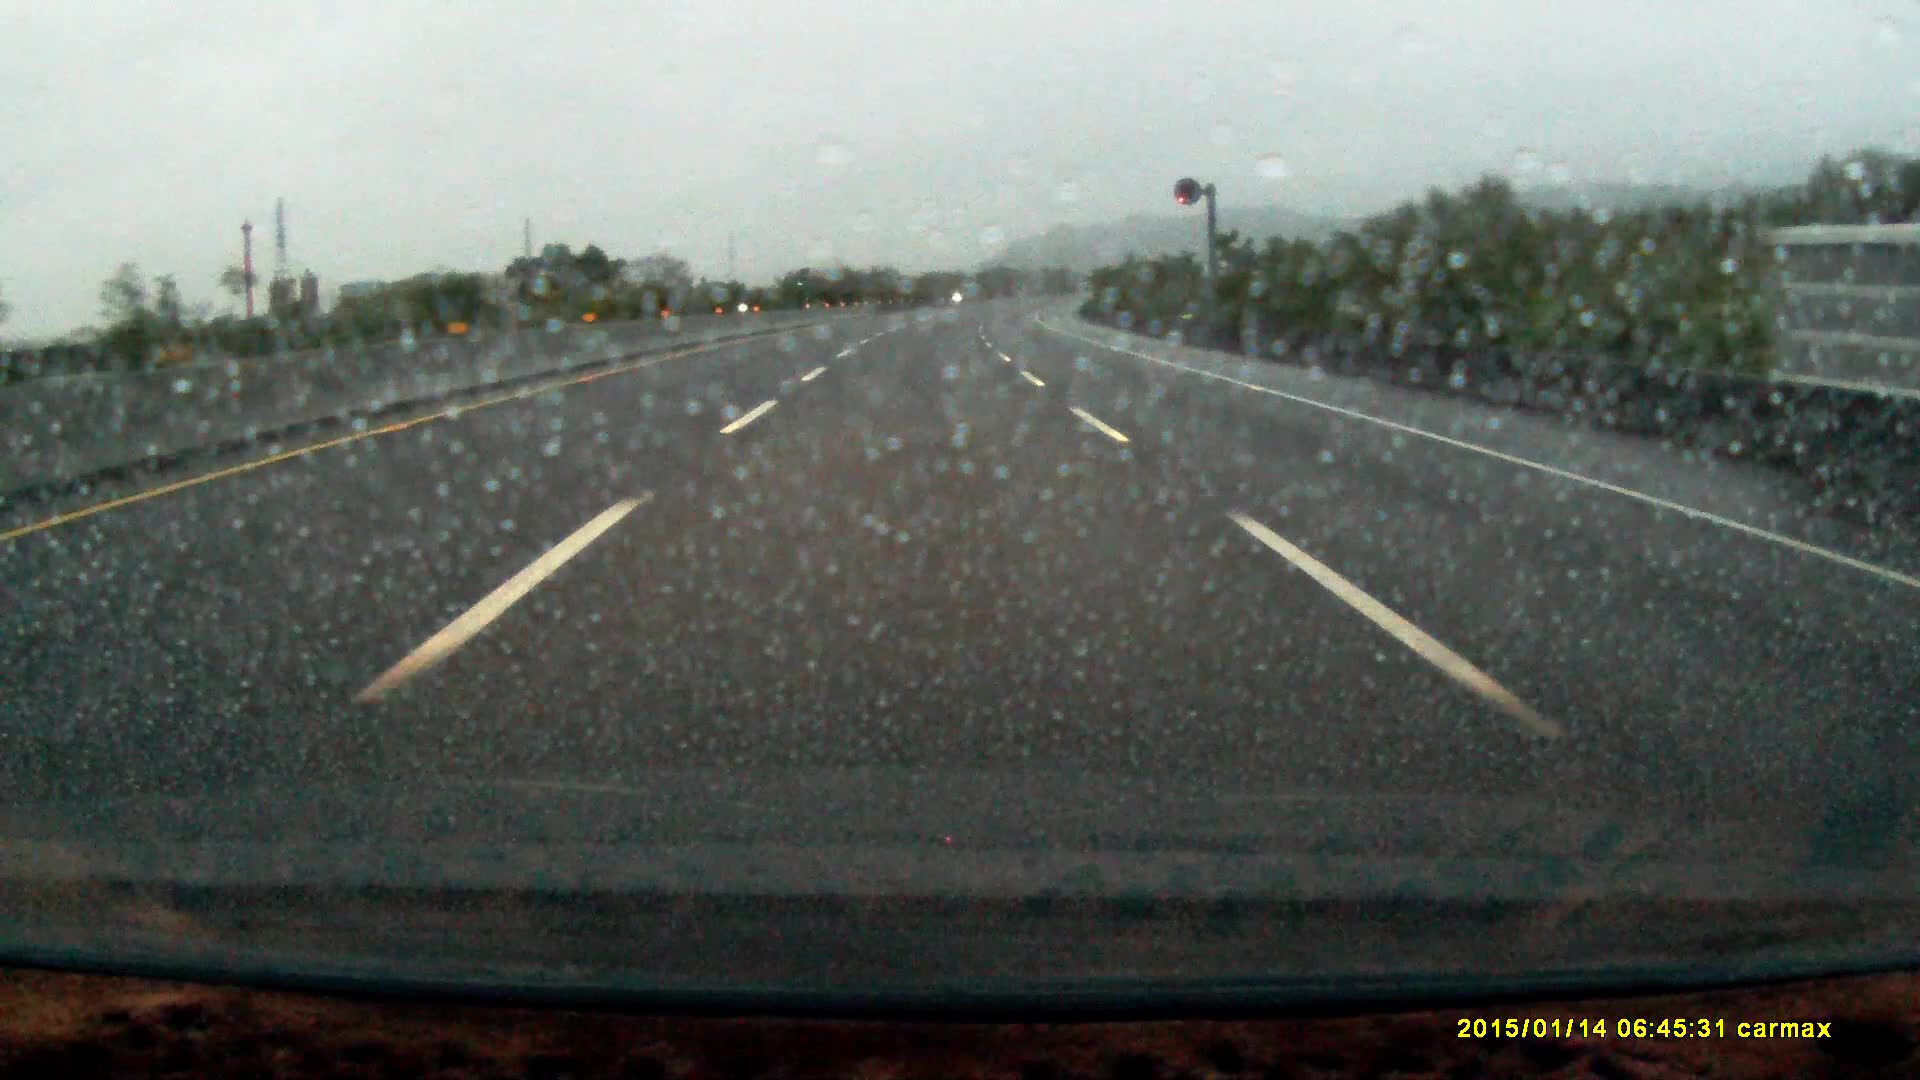vehicle: (793, 266, 833, 306)
